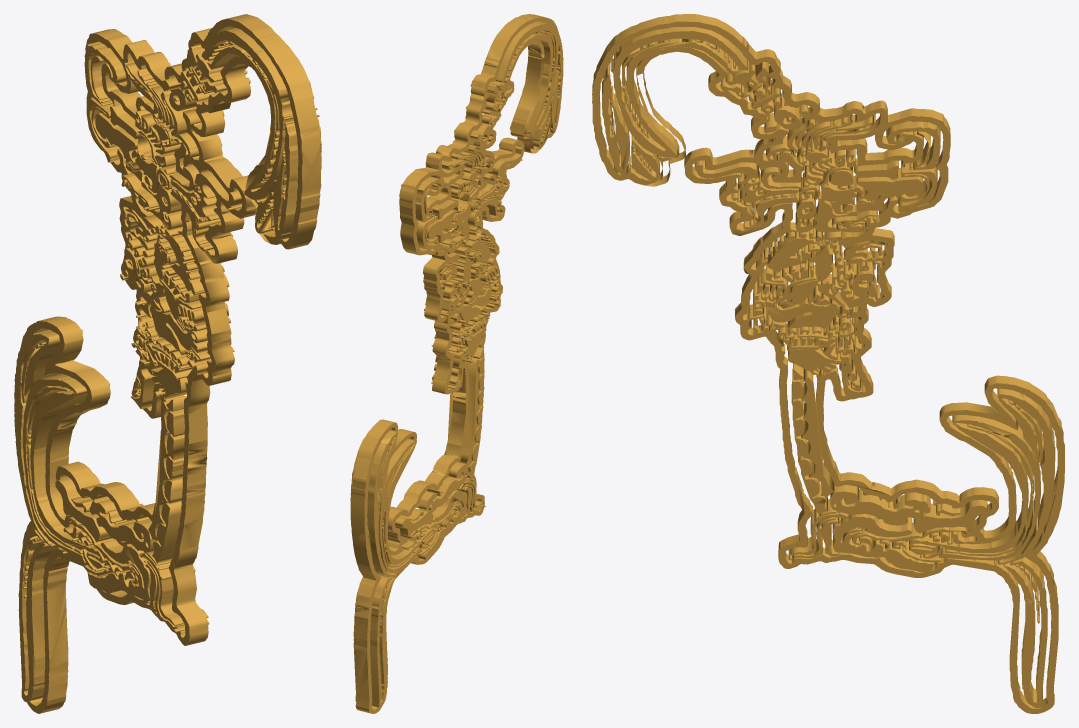
Rendered from templegoldpeice3.glb.
3 renders of one model, left to right at view 1: azimuth 30°, elevation 25°; view 2: azimuth 150°, elevation 25°; view 3: azimuth 270°, elevation 25°, orthographic. The views are drawn at different scales.
Parts seen in each view (by area): view 1: Selection #2.009; view 2: Selection #2.009; view 3: Selection #2.009.
Boxes of the visible parts, <box> form: Selection #2.009: <box>14,14,321,713</box>; Selection #2.009: <box>350,14,563,713</box>; Selection #2.009: <box>592,14,1064,713</box>.
Size of the model in its own units: 0.0263 by 0.5204 by 0.3221.
